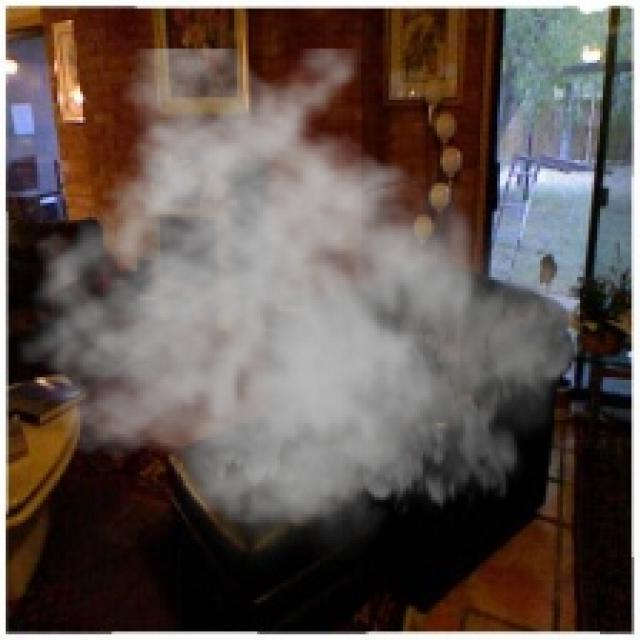Smoke: (14, 49, 583, 578)
